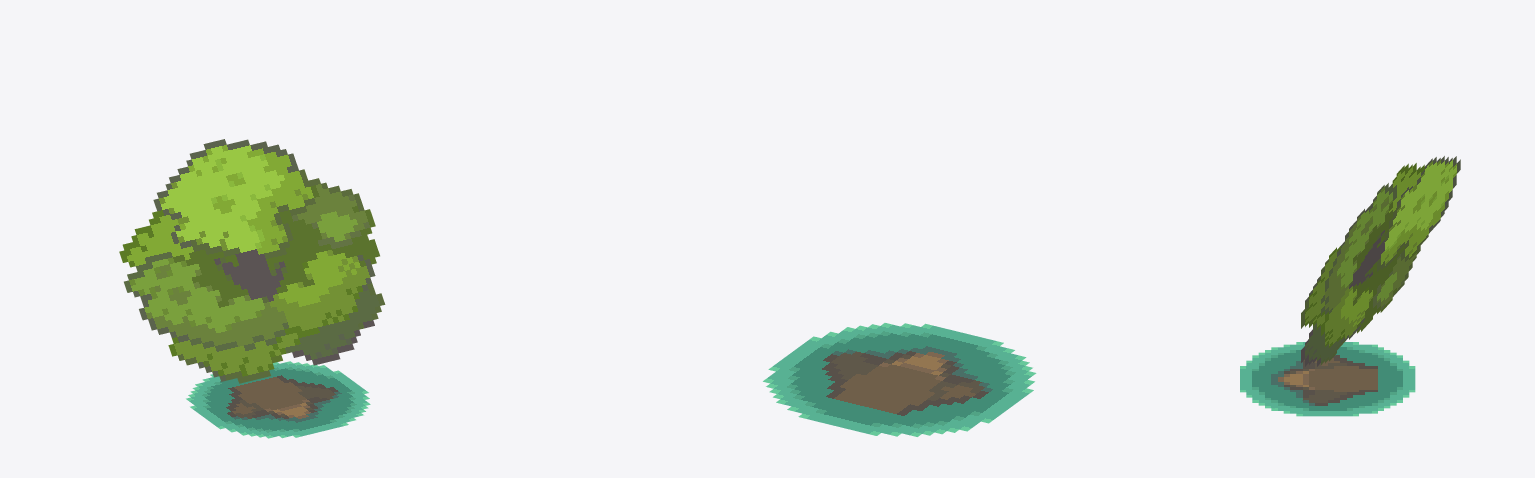
File: hgss-arbre-rosalia-en_tree04.glb
The picture shows the model from 3 angles, left to right: view 1: azimuth 30°, elevation 25°; view 2: azimuth 150°, elevation 25°; view 3: azimuth 270°, elevation 25°; orthographic projection. The views are drawn at different scales.
Bounding box in the file's own units: 4 × 3.08 × 2.92.
2 materials, 2 textured.
